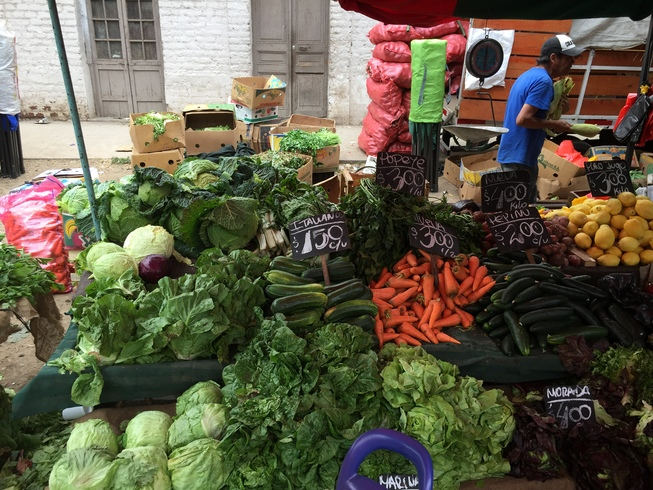precio: (544, 375, 610, 444), (369, 144, 437, 210), (282, 207, 354, 261), (484, 204, 562, 252), (580, 153, 642, 210), (405, 211, 468, 265), (478, 164, 539, 215)
